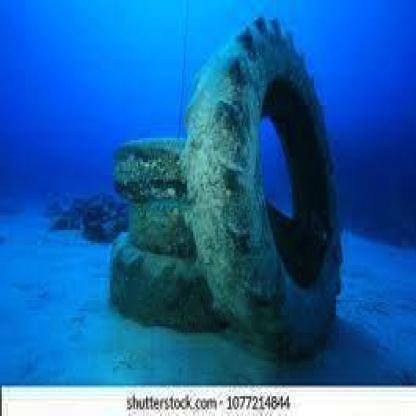tire: (174, 8, 349, 372), (102, 238, 228, 330), (106, 123, 211, 210), (110, 195, 215, 252)
